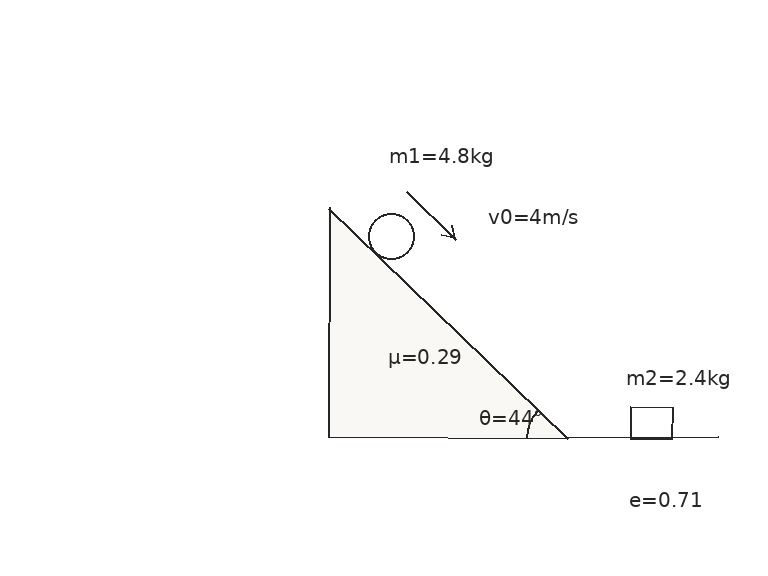ball: (366, 211, 416, 261)
block: (628, 405, 674, 440)
ramp: (327, 206, 569, 440)
